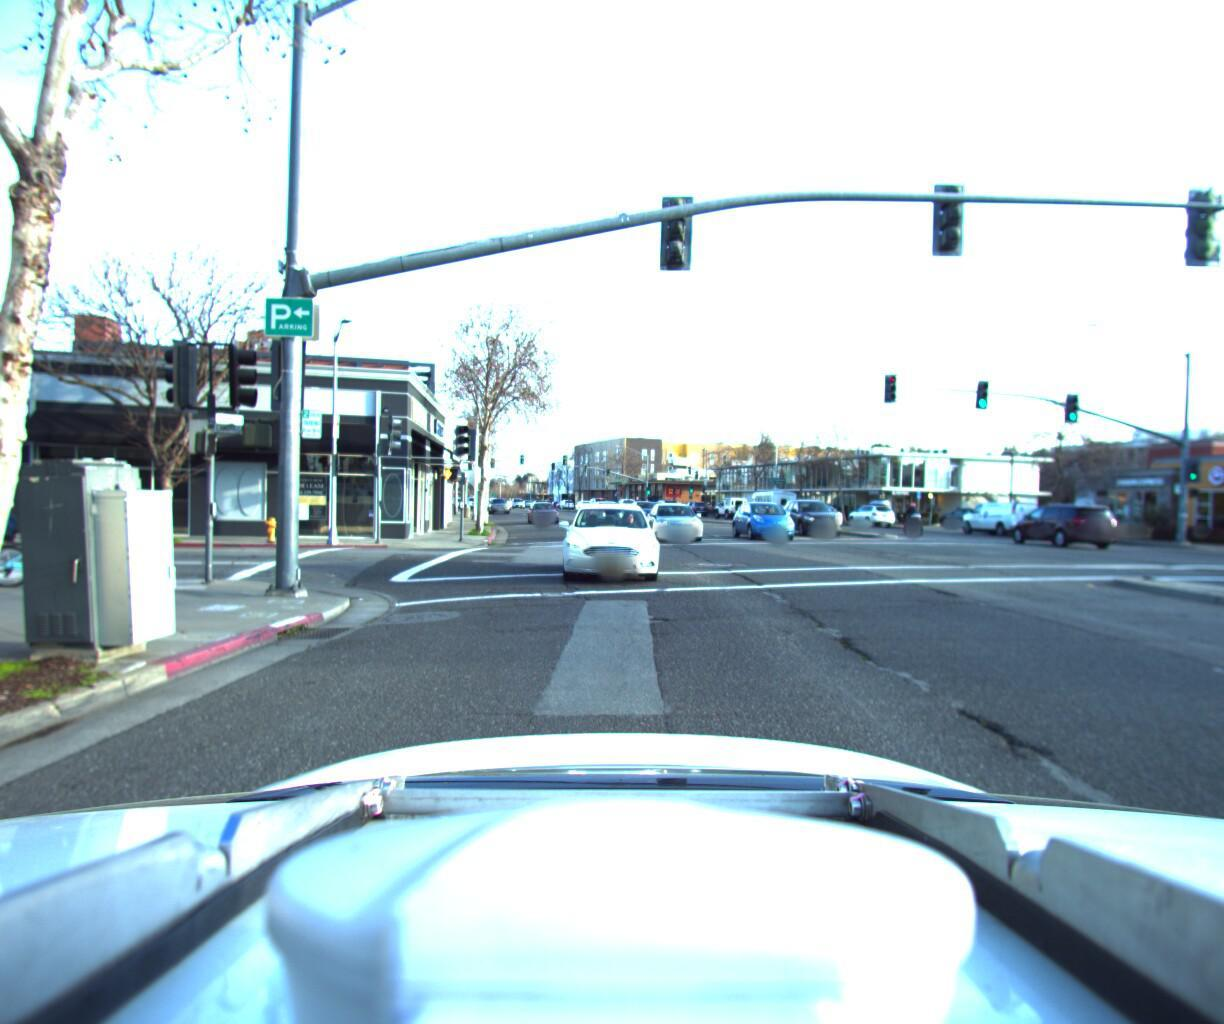bicycle: (0, 477, 109, 593)
bus: (746, 482, 798, 514)
car: (559, 498, 664, 588), (994, 495, 1109, 545), (957, 492, 1044, 530), (736, 495, 809, 539), (649, 498, 715, 542), (774, 489, 847, 528), (845, 491, 897, 520), (937, 498, 998, 519), (523, 497, 557, 523), (705, 490, 742, 513), (626, 497, 664, 520)
motorcycle: (885, 494, 921, 528)
